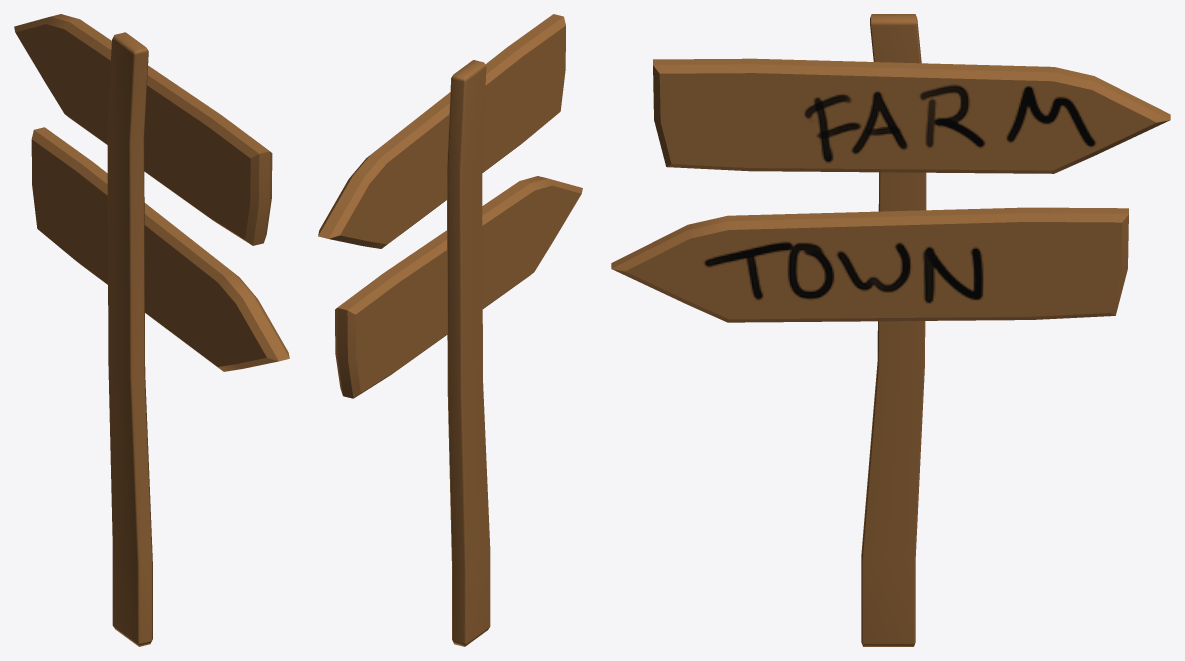
Rendered from Arrow_Sign_MESH_01.fbx.
3 renders of one model, left to right at view 1: azimuth 30°, elevation 25°; view 2: azimuth 150°, elevation 25°; view 3: azimuth 270°, elevation 25°, orthographic. The views are drawn at different scales.
Parts seen in each view (by area): view 1: pCube5, pCube7, pCube6; view 2: pCube5, pCube7, pCube6; view 3: pCube6, pCube7, pCube5.
Part boxes in pixels (x1,y1,x2,y2): pCube5: (107,32,152,646); pCube7: (31,127,289,371); pCube6: (14,14,272,245); pCube5: (446,60,490,646); pCube7: (335,176,582,398); pCube6: (318,14,565,248); pCube6: (653,58,1170,173); pCube7: (611,207,1128,322); pCube5: (861,14,926,646).
Size of the model in its own units: 11.83 by 171 by 139.
